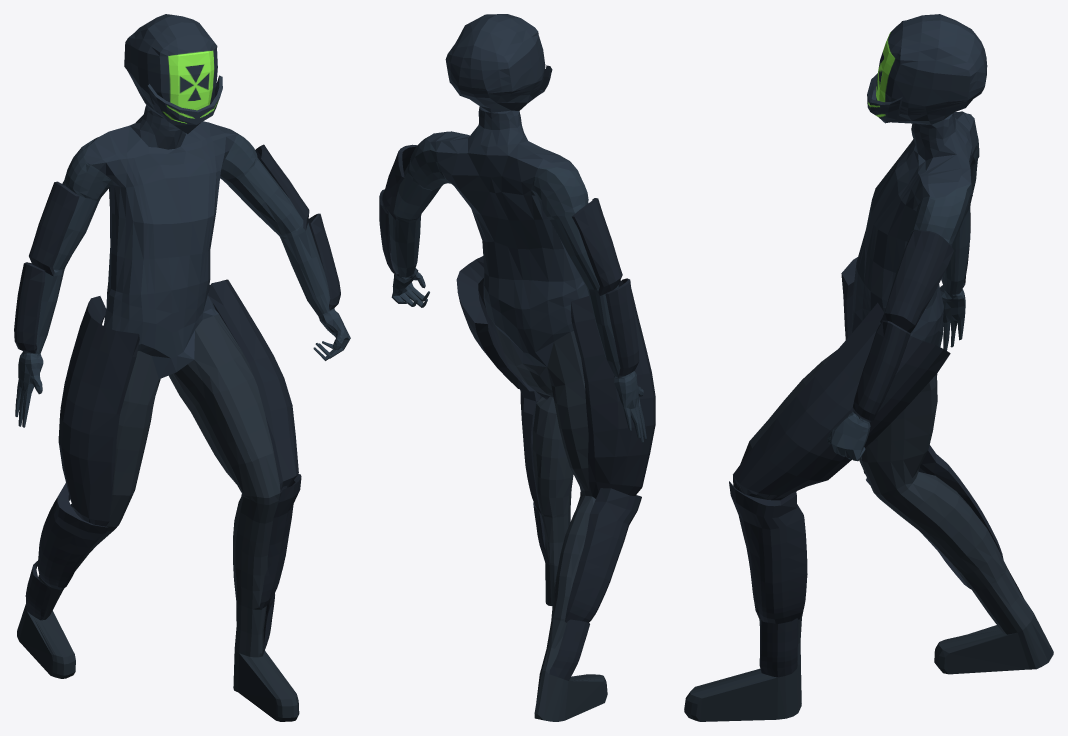
Rendered from Bastion_Die_000001.obj.
3 renders of one model, left to right at view 1: azimuth 30°, elevation 25°; view 2: azimuth 150°, elevation 25°; view 3: azimuth 270°, elevation 25°, orthographic. The views are drawn at different scales.
Parts seen in each view (by area): view 1: Cube.002; view 2: Cube.002; view 3: Cube.002.
Part boxes in pixels (x1,y1,x2,y2): Cube.002: [14, 14, 350, 721]; Cube.002: [379, 14, 655, 721]; Cube.002: [684, 14, 1053, 721].
Size of the model in its own units: 1.73 by 3.66 by 1.74.
